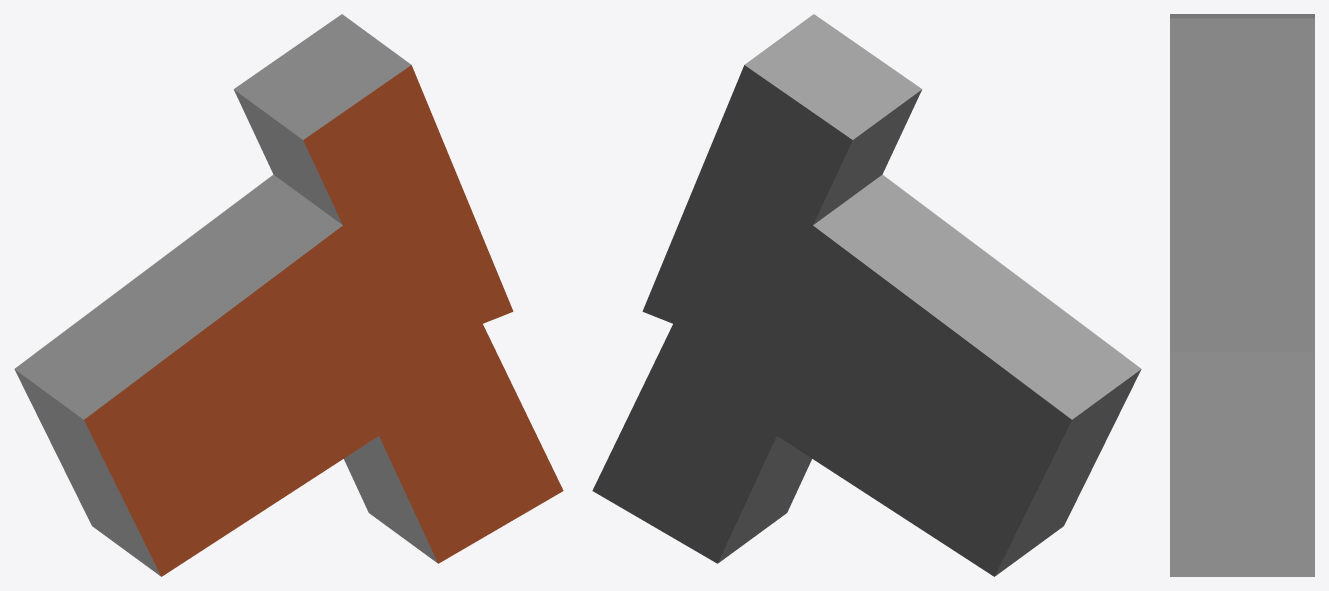
File: construction_0687_assumed_A_Casa_h6m.obj
3 views of the same model, side by side, from view 1: azimuth 30°, elevation 25°; view 2: azimuth 150°, elevation 25°; view 3: azimuth 270°, elevation 25° (orthographic). The views are drawn at different scales.
Visible parts, largest first — view 1: construction_0687_assumed_A_Casa; view 2: construction_0687_assumed_A_Casa; view 3: construction_0687_assumed_A_Casa.
Part boxes in pixels (x1,y1,x2,y2): construction_0687_assumed_A_Casa: (14,14,563,576); construction_0687_assumed_A_Casa: (592,14,1141,576); construction_0687_assumed_A_Casa: (1170,14,1314,576).
Size of the model in its own units: 23.89 by 24.05 by 6.
